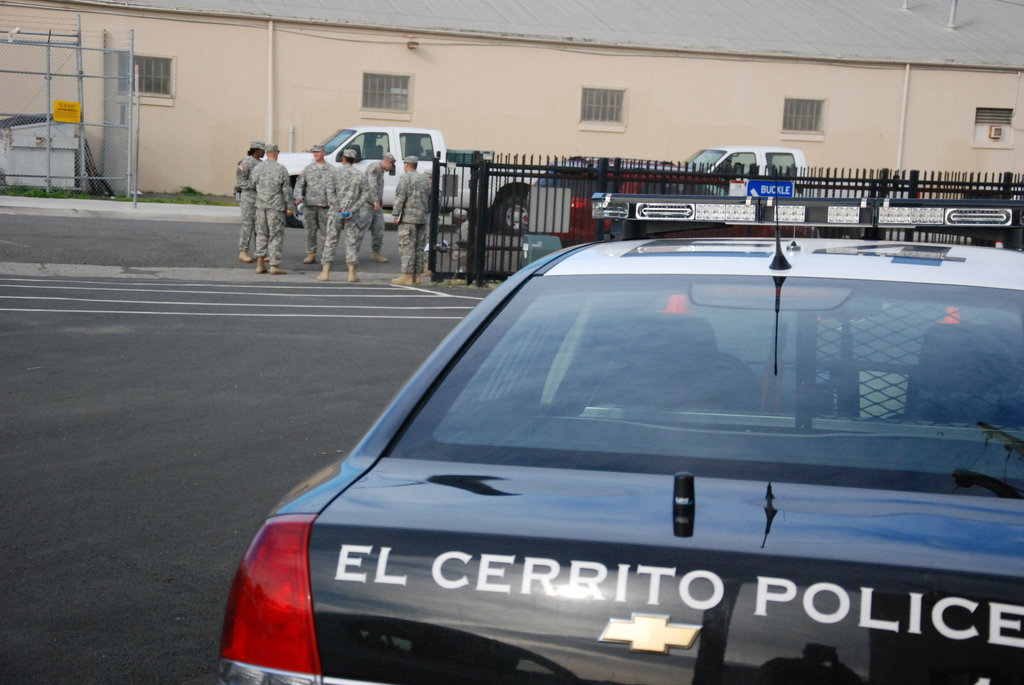Car: (210, 174, 1023, 684), (261, 127, 505, 216), (688, 143, 808, 178)
